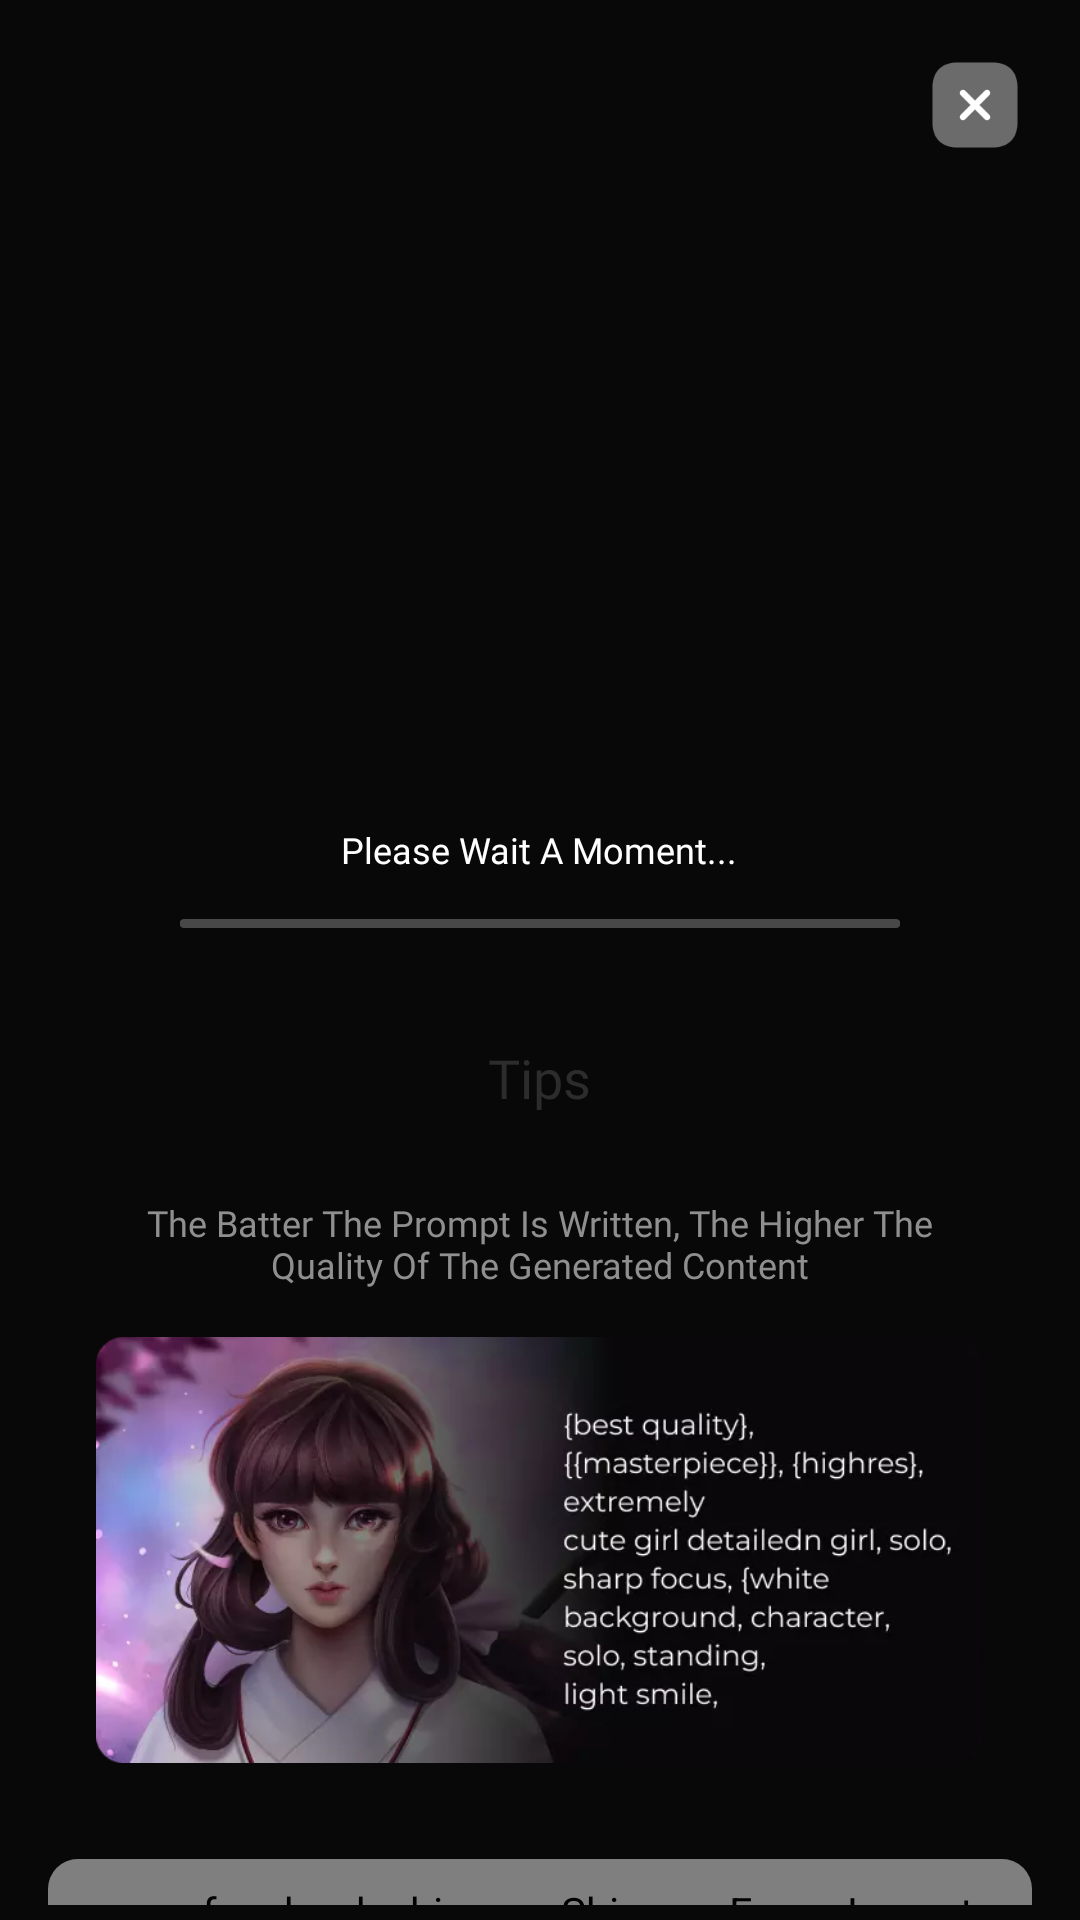

Where to tap for icons on this 1080 x 1920 app screen, as point (x, y):
close: point (975, 105)
